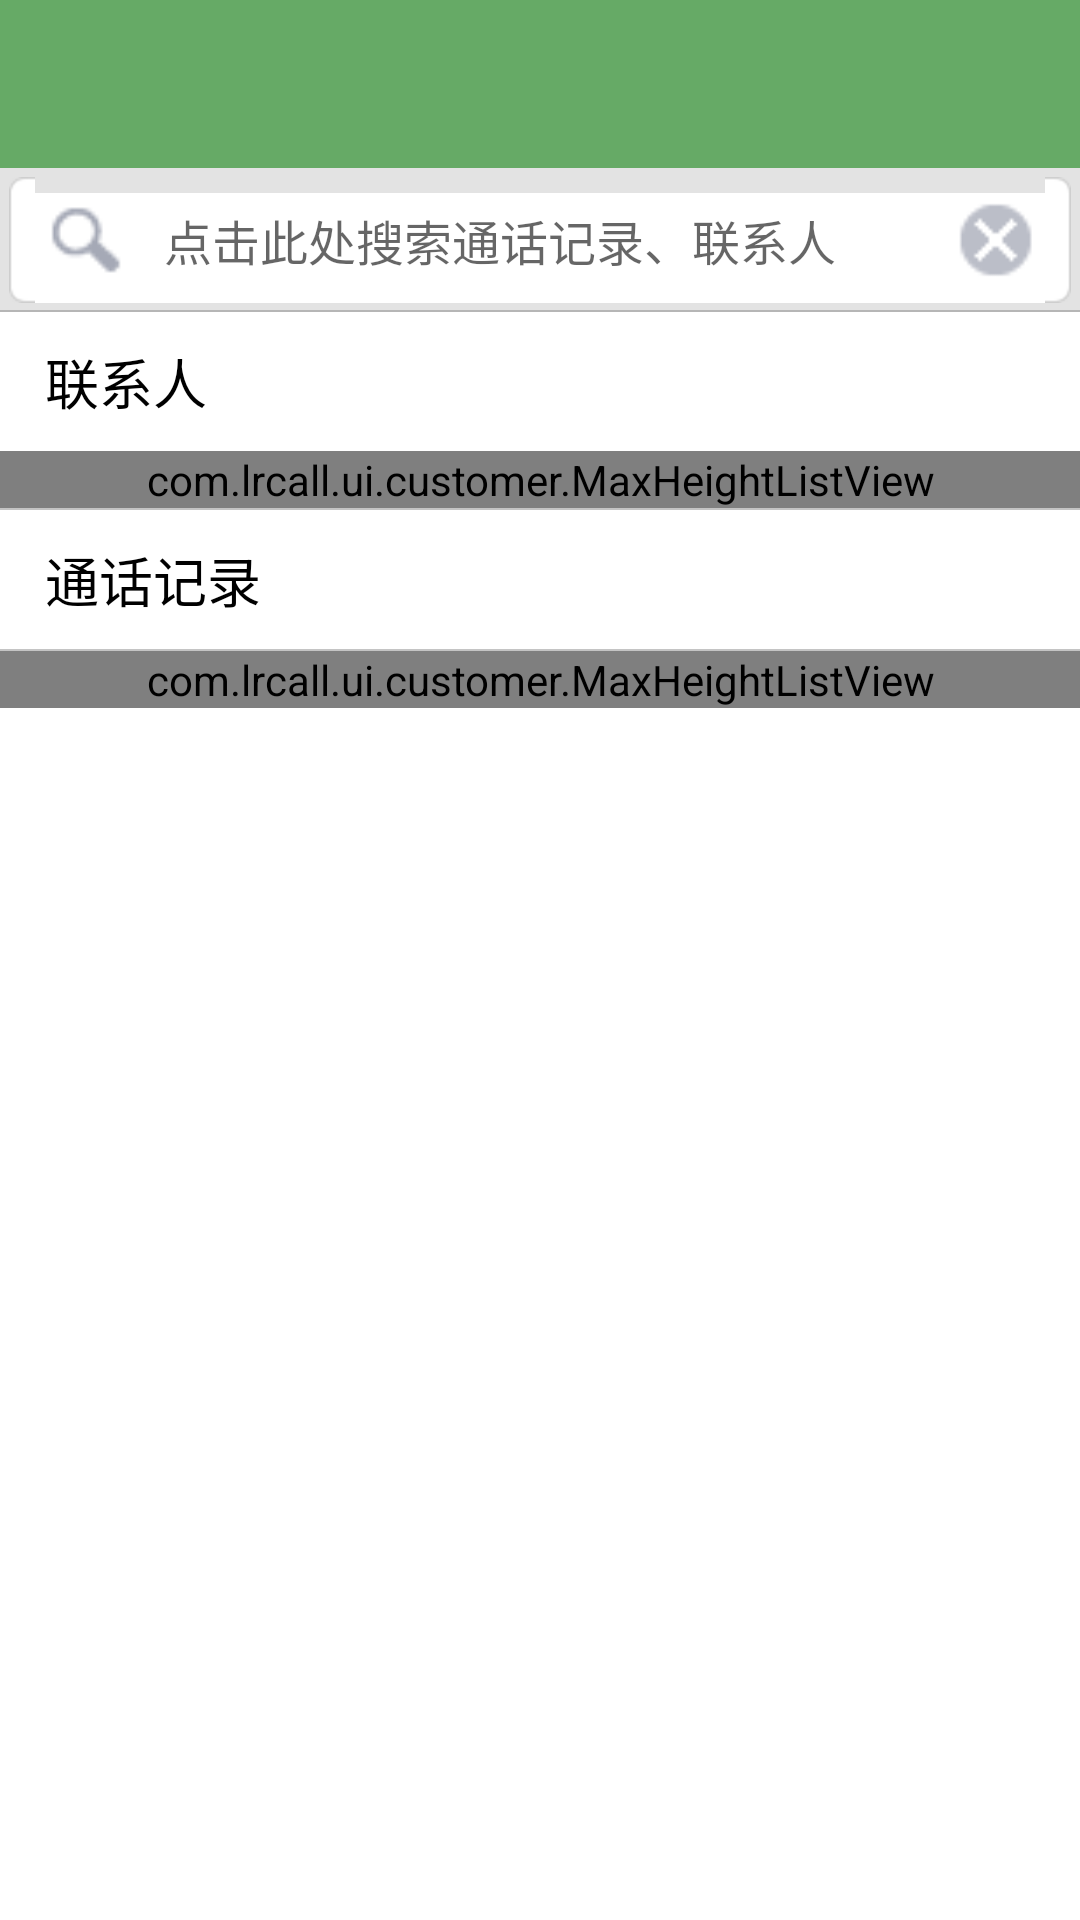

Icon bounding boxes for this 1080px x 1920px phone screenshot, format {"left": x1, "top": y1, "right": x2, "bottom": y2}:
del search: {"left": 960, "top": 204, "right": 1031, "bottom": 275}
search: {"left": 52, "top": 208, "right": 120, "bottom": 272}
